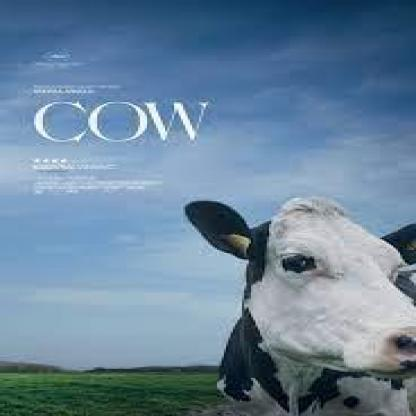cow: (185, 198, 416, 416)
